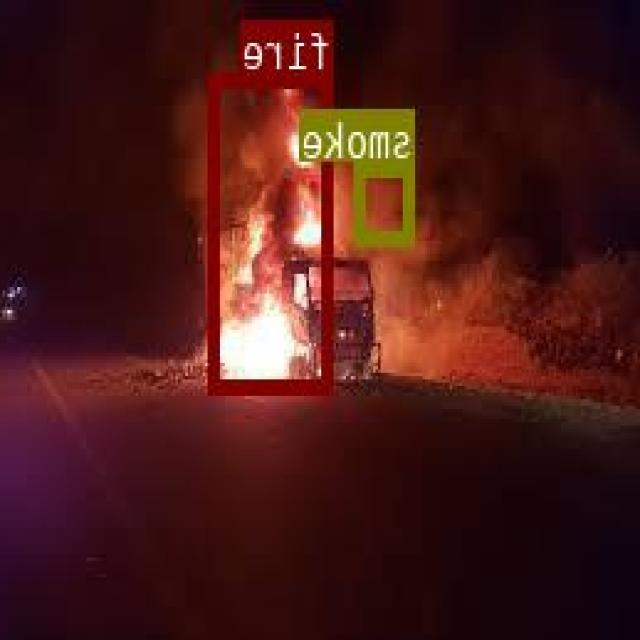fire: (211, 70, 335, 390)
smoke: (357, 161, 416, 243)
